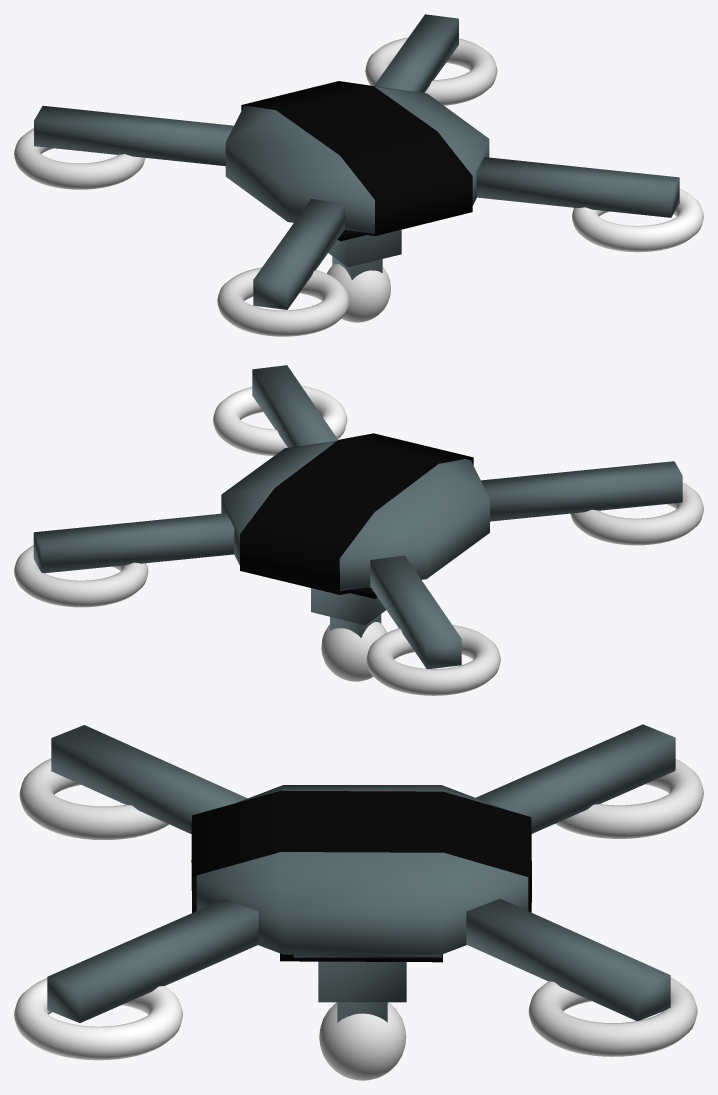
The model's file is drone_done.gltf.
3 views of the same model, one above another, from view 1: azimuth 30°, elevation 25°; view 2: azimuth 150°, elevation 25°; view 3: azimuth 270°, elevation 25° (orthographic). The views are drawn at different scales.
Parts seen in each view (by area): view 1: rullebånd, krop, venstrebagarm001, højrearm, venstrebagarm, højrebagrind, venstrebagrind, venstrearm, højrering, venstrering, pæren; view 2: rullebånd, krop, venstrearm, venstrebagarm, højrearm, højrering, venstrebagarm001, venstrering, venstrebagrind, højrebagrind, pæren; view 3: krop, rullebånd, venstrebagarm001, venstrearm, højrearm, venstrebagarm, venstrebagrind, venstrering, højrebagrind, højrering, pæren.
Boxes of the visible parts, x1,y1,x2,y2 form: rullebånd: [241, 81, 472, 241]; krop: [225, 86, 489, 279]; venstrebagarm001: [476, 157, 679, 217]; højrearm: [34, 105, 233, 166]; venstrebagarm: [253, 199, 344, 309]; højrebagrind: [217, 267, 349, 336]; venstrebagrind: [572, 189, 703, 252]; venstrearm: [374, 14, 458, 92]; højrering: [14, 128, 145, 189]; venstrering: [365, 37, 497, 105]; pæren: [327, 264, 390, 322]; rullebånd: [240, 433, 473, 598]; krop: [221, 441, 489, 637]; venstrearm: [33, 513, 234, 573]; venstrebagarm: [481, 461, 682, 521]; højrearm: [370, 555, 461, 668]; højrering: [366, 625, 500, 695]; venstrebagarm001: [252, 365, 337, 447]; venstrering: [14, 545, 148, 607]; venstrebagrind: [213, 385, 347, 455]; højrebagrind: [570, 482, 703, 545]; pæren: [321, 622, 386, 681]; krop: [196, 785, 528, 1022]; rullebånd: [191, 790, 531, 962]; venstrebagarm001: [47, 899, 258, 1022]; venstrearm: [466, 898, 670, 1020]; højrearm: [476, 724, 675, 833]; venstrebagarm: [51, 725, 247, 833]; venstrebagrind: [14, 978, 182, 1060]; venstrering: [528, 977, 697, 1056]; højrebagrind: [19, 758, 168, 839]; højrering: [555, 755, 703, 838]; pæren: [319, 1002, 406, 1080].
Size of the model in its own units: 10.24 by 4.16 by 10.2.
Materials: 5 (1 with a texture image).
